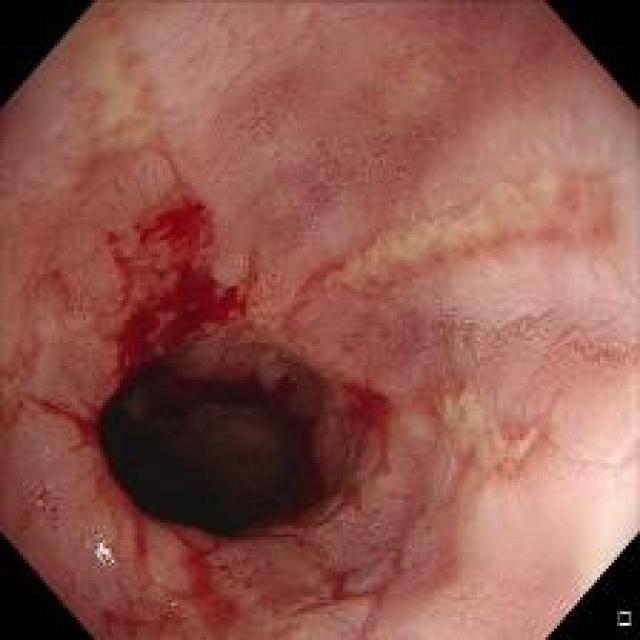blood: (100, 179, 241, 348), (334, 371, 396, 484), (144, 558, 235, 631)
color misalignment: (92, 530, 119, 570), (35, 495, 54, 518)
contrast: (71, 339, 351, 549)
specularity: (88, 529, 121, 574)
